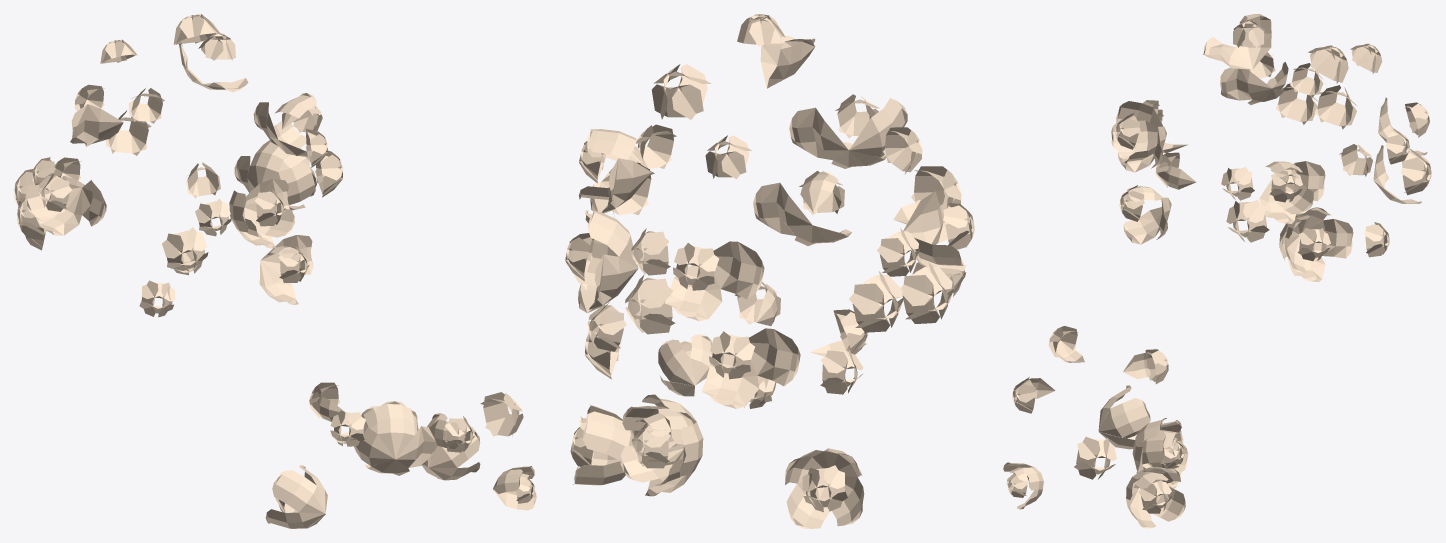
File: 03_openskp_material_71.001.obj
3 views of the same model, side by side, from view 1: azimuth 30°, elevation 25°; view 2: azimuth 150°, elevation 25°; view 3: azimuth 270°, elevation 25° (orthographic). The views are drawn at different scales.
Parts seen in each view (by area): view 1: 03_openskp_material_71.001; view 2: 03_openskp_material_71.001; view 3: 03_openskp_material_71.001.
Part boxes in pixels (box(x1,y1,x2,y2)): 03_openskp_material_71.001: box(14, 14, 536, 528); 03_openskp_material_71.001: box(565, 14, 974, 528); 03_openskp_material_71.001: box(1003, 14, 1431, 528).
Size of the model in its own units: 18.93 by 20.57 by 19.14.
